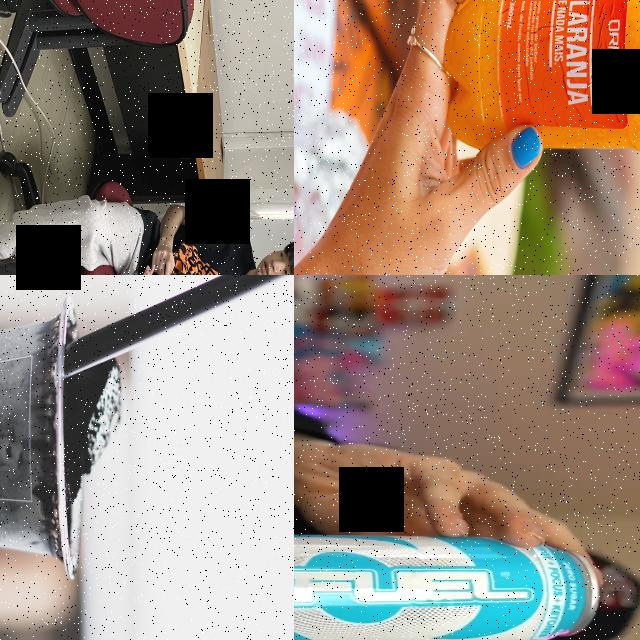bottle: (441, 0, 640, 150)
can: (294, 531, 604, 640), (294, 0, 349, 275)
cup: (0, 294, 83, 576)
